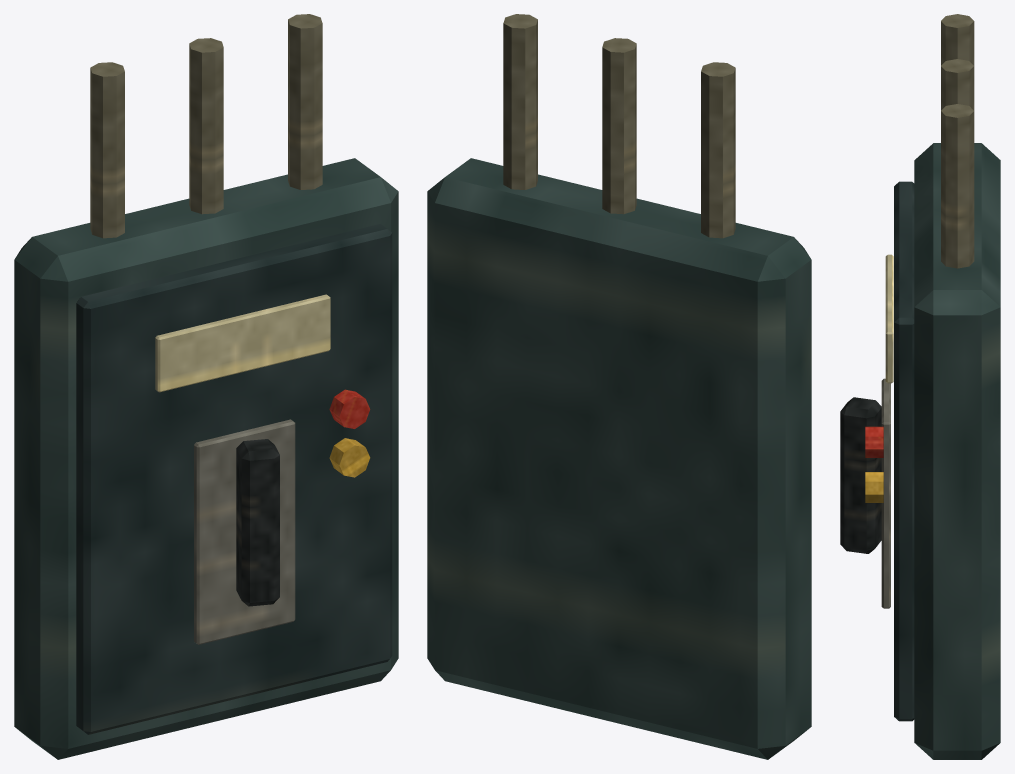
The model's file is SH_POC_BreakerPanel.fbx.
The picture shows the model from 3 angles, left to right: view 1: azimuth 30°, elevation 25°; view 2: azimuth 150°, elevation 25°; view 3: azimuth 270°, elevation 25°; orthographic projection. The views are drawn at different scales.
Parts seen in each view (by area): view 1: SH_POC_BreakerPanel; view 2: SH_POC_BreakerPanel; view 3: SH_POC_BreakerPanel.
Part boxes in pixels (box(x1,y1,x2,y2)): SH_POC_BreakerPanel: box(14, 14, 398, 759); SH_POC_BreakerPanel: box(427, 14, 811, 759); SH_POC_BreakerPanel: box(840, 14, 1000, 759).
Bounding box in the file's own units: 0.58 × 1.03 × 0.2416.
Materials: 1 (1 with a texture image).
